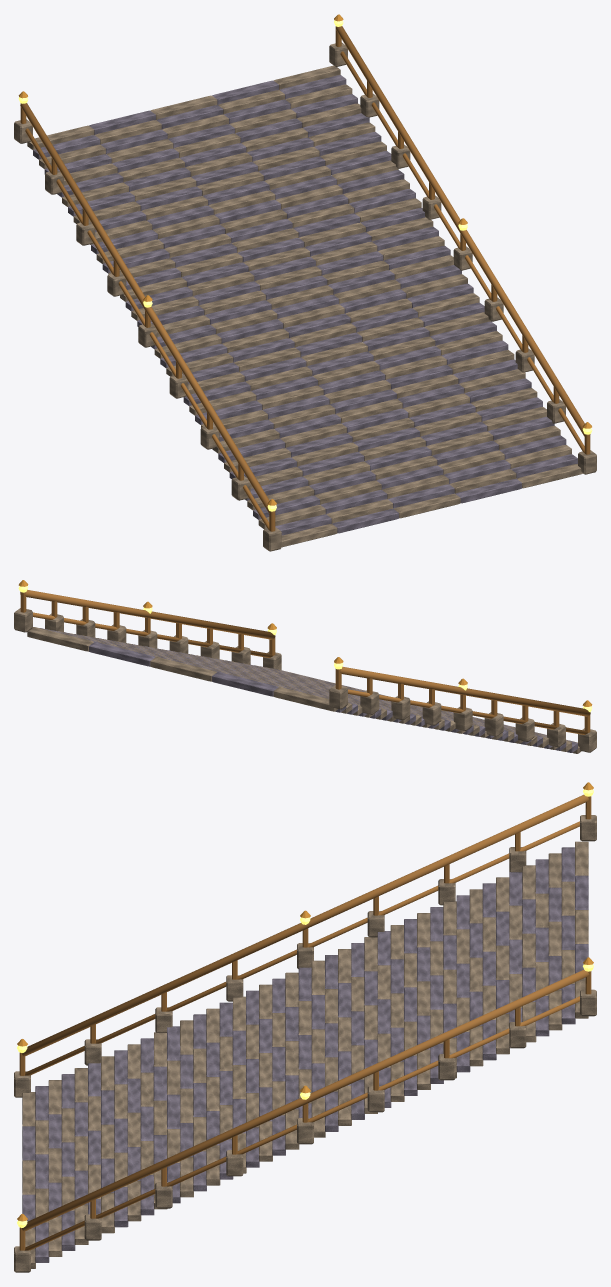
Rendered from ceremonial-stairs.glb.
3 renders of one model, top to bottom at view 1: azimuth 30°, elevation 25°; view 2: azimuth 150°, elevation 25°; view 3: azimuth 270°, elevation 25°, orthographic. The views are drawn at different scales.
Parts seen in each view (by area): view 1: ceremonial-stairs · Stair limestone, ceremonial-stairs · Stair slate, ceremonial-stairs · Dark gilded rail; view 2: ceremonial-stairs · Stair limestone, ceremonial-stairs · Dark gilded rail, ceremonial-stairs · Stair slate, ceremonial-stairs · Hammered brass, ceremonial-stairs · Amber lamp glass; view 3: ceremonial-stairs · Stair limestone, ceremonial-stairs · Stair slate, ceremonial-stairs · Dark gilded rail.
Part boxes in pixels (x1,y1,x2,y2): ceremonial-stairs · Stair limestone: (14, 42, 596, 551); ceremonial-stairs · Stair slate: (33, 75, 577, 535); ceremonial-stairs · Dark gilded rail: (20, 26, 590, 531); ceremonial-stairs · Stair limestone: (14, 608, 596, 753); ceremonial-stairs · Dark gilded rail: (20, 590, 590, 734); ceremonial-stairs · Stair slate: (40, 628, 577, 752); ceremonial-stairs · Hammered brass: (18, 580, 592, 706); ceremonial-stairs · Amber lamp glass: (18, 586, 592, 712); ceremonial-stairs · Stair limestone: (14, 815, 596, 1272); ceremonial-stairs · Stair slate: (22, 847, 588, 1262); ceremonial-stairs · Dark gilded rail: (19, 794, 591, 1250).
Size of the model in its own units: 10.66 by 8.56 by 14.42.
Materials: 5 (2 with a texture image).
